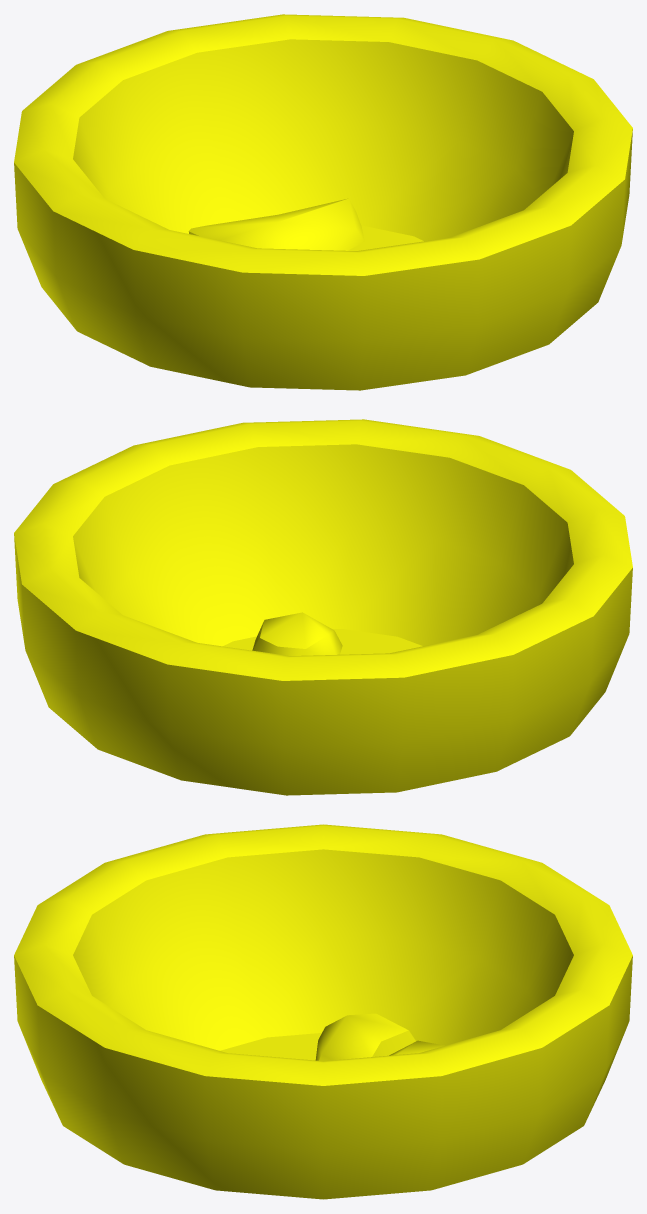
File: bowl_dirty.gltf
3 views of the same model, one above another, from view 1: azimuth 30°, elevation 25°; view 2: azimuth 150°, elevation 25°; view 3: azimuth 270°, elevation 25° (orthographic).
Visible parts, largest first — view 1: bowl_dirty; view 2: bowl_dirty; view 3: bowl_dirty.
Part boxes in pixels (x1,y1,x2,y2): bowl_dirty: [14, 14, 632, 390]; bowl_dirty: [14, 419, 632, 795]; bowl_dirty: [14, 824, 632, 1199].
Bounding box in the file's own units: 0.95 × 0.3 × 0.95.
1 material, 1 textured.
